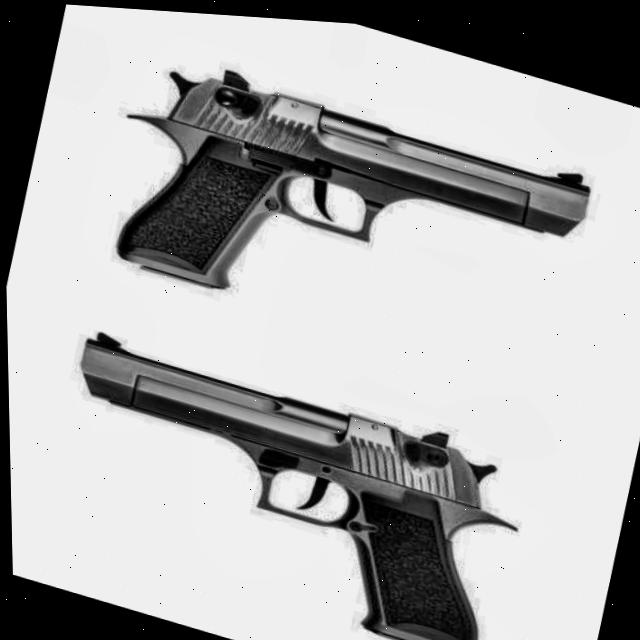pistol: (79, 18, 615, 405)
